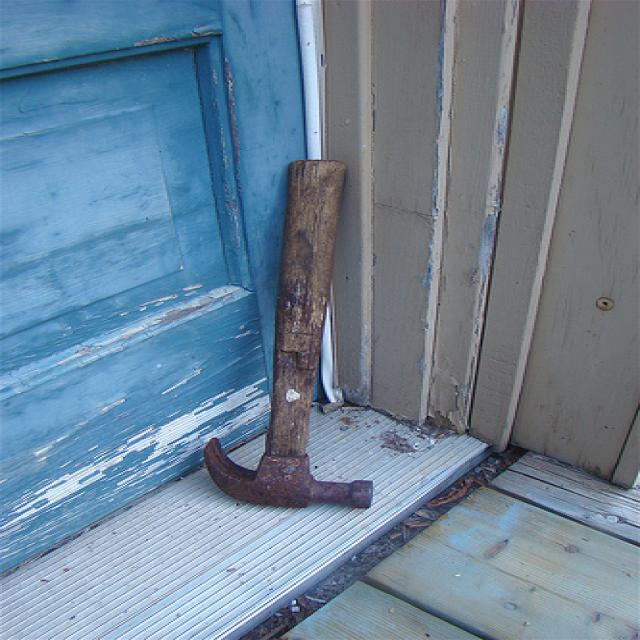hammer: (196, 147, 389, 528)
